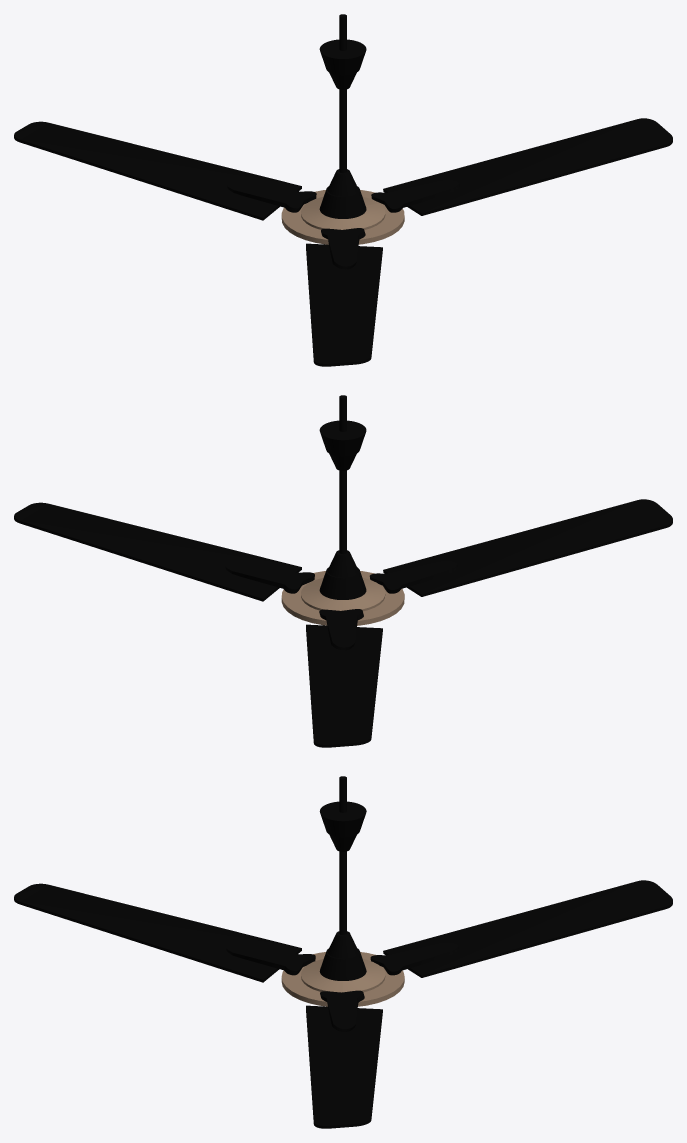
File: Ceiling Fan FBX.fbx
3 renders of one model, top to bottom at view 1: azimuth 30°, elevation 25°; view 2: azimuth 150°, elevation 25°; view 3: azimuth 270°, elevation 25°, orthographic.
Parts seen in each view (by area): view 1: Rectangle0, Rectangle0.Rectangle1, Rectangle0.Rectangle2, Line125, Line126, Line127, Line128.Line128.Li, Line128, Line128.Line128.L0, Cylinder51; view 2: Rectangle0.Rectangle2, Rectangle0, Rectangle0.Rectangle1, Line125, Line126, Line127, Line128, Line128.Line128.L0, Line128.Line128.Li, Cylinder51; view 3: Rectangle0.Rectangle1, Rectangle0.Rectangle2, Rectangle0, Line125, Line126, Line127, Line128.Line128.L0, Line128.Line128.Li, Line128, Cylinder51.
Boxes of the visible parts, box(x1,y1,x2,y2) form: Rectangle0: box(383, 118, 672, 215); Rectangle0.Rectangle1: box(14, 121, 301, 220); Rectangle0.Rectangle2: box(306, 243, 382, 366); Line125: box(281, 190, 404, 244); Line126: box(319, 169, 366, 218); Line127: box(319, 39, 366, 89); Line128.Line128.Li: box(227, 181, 316, 212); Line128: box(371, 180, 459, 212); Line128.Line128.L0: box(321, 228, 365, 269); Cylinder51: box(339, 14, 346, 172); Rectangle0.Rectangle2: box(383, 499, 672, 596); Rectangle0: box(14, 502, 301, 601); Rectangle0.Rectangle1: box(306, 624, 382, 747); Line125: box(281, 571, 404, 625); Line126: box(319, 550, 366, 599); Line127: box(319, 420, 366, 470); Line128: box(225, 562, 314, 593); Line128.Line128.L0: box(369, 561, 458, 593); Line128.Line128.Li: box(319, 609, 363, 650); Cylinder51: box(339, 395, 346, 553); Rectangle0.Rectangle1: box(383, 880, 672, 977); Rectangle0.Rectangle2: box(14, 883, 301, 982); Rectangle0: box(306, 1005, 382, 1128); Line125: box(281, 952, 404, 1006); Line126: box(319, 931, 366, 980); Line127: box(319, 801, 366, 851); Line128.Line128.L0: box(226, 944, 315, 975); Line128.Line128.Li: box(370, 942, 458, 975); Line128: box(320, 990, 364, 1031); Cylinder51: box(339, 776, 346, 934).
Bounding box in the file's own units: 187 × 75.92 × 214.
